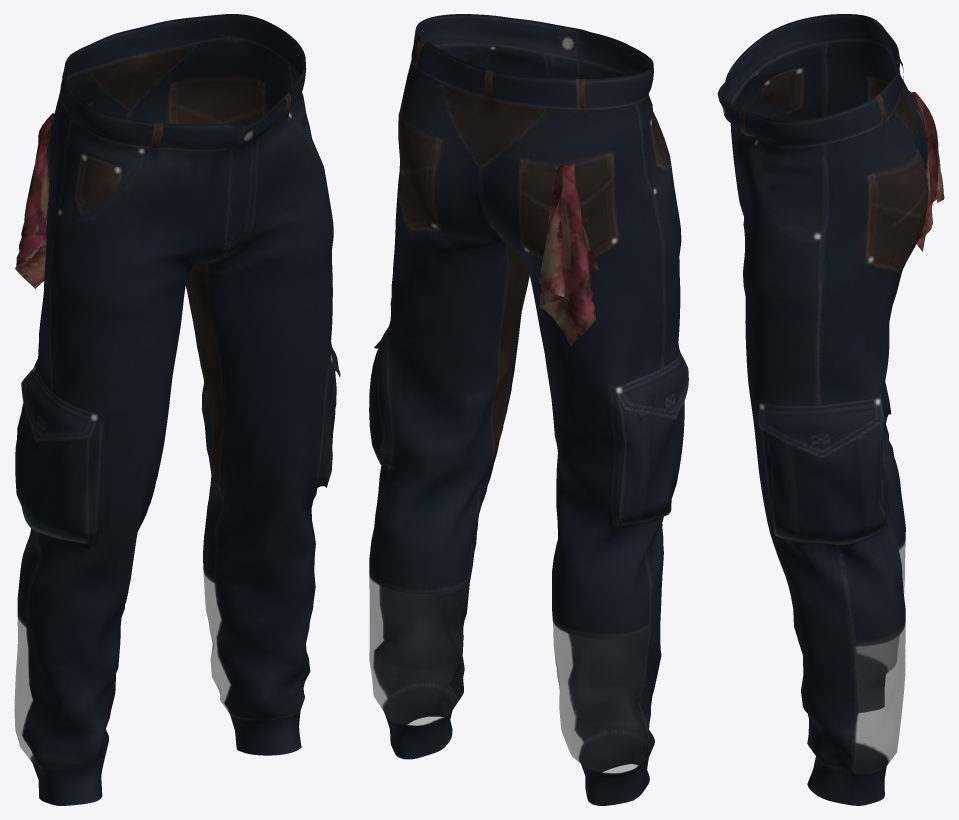
Rendered from m_cargo.glb.
The picture shows the model from 3 angles, left to right: view 1: azimuth 30°, elevation 25°; view 2: azimuth 150°, elevation 25°; view 3: azimuth 270°, elevation 25°; orthographic projection. The views are drawn at different scales.
Visible parts, largest first — view 1: Object_2; view 2: Object_2; view 3: Object_2.
Boxes of the visible parts, <box> form: Object_2: <box>14,14,340,805</box>; Object_2: <box>369,14,688,805</box>; Object_2: <box>717,14,944,805</box>.
Size of the model in its own units: 0.4031 by 0.964 by 0.2862.
1 material, 1 textured.
